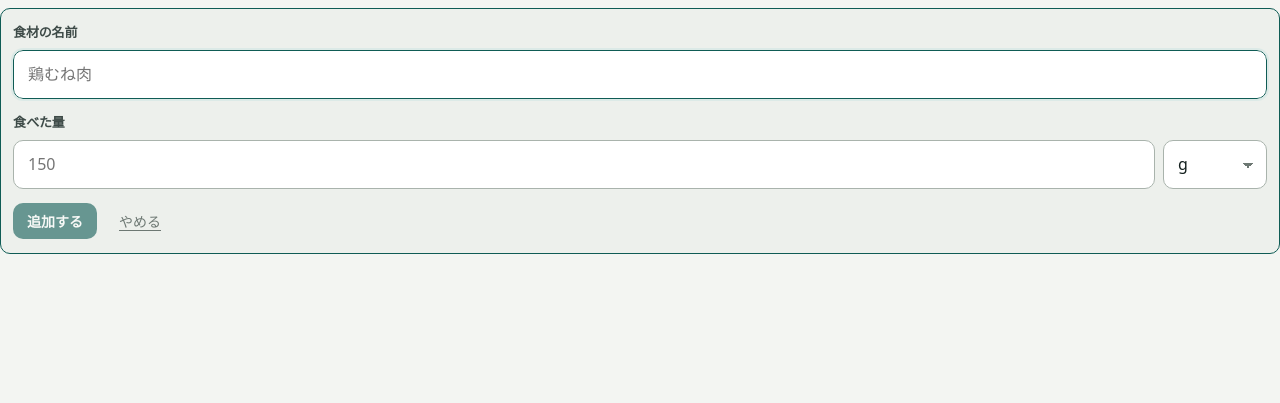
Scenario: 管理者が使うとき（canEditNutrition = true） › 未登録の食材には、栄養値の入力欄が出る
The width and height of the screenshot is (1280, 403).
Type "サラダチキン" into the field labelled "食材の名前".
click(640, 75); type("サラダチキン")  # box [13,50,1267,99]
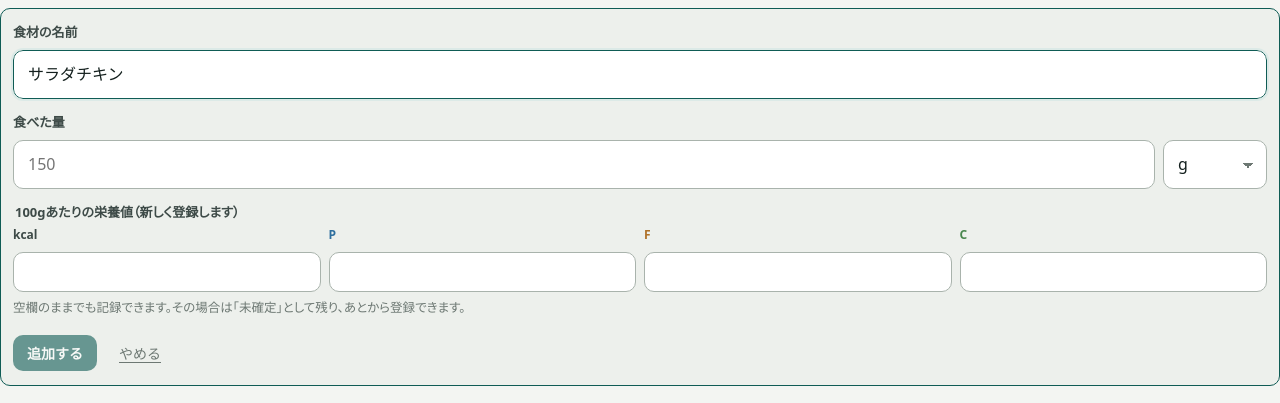
Check: the text "100gあたりの栄養値（新しく登録します）" is shown, box [13,201,242,224]
Check: the number field labelled "kcal" is shown, box [13,252,320,292]
